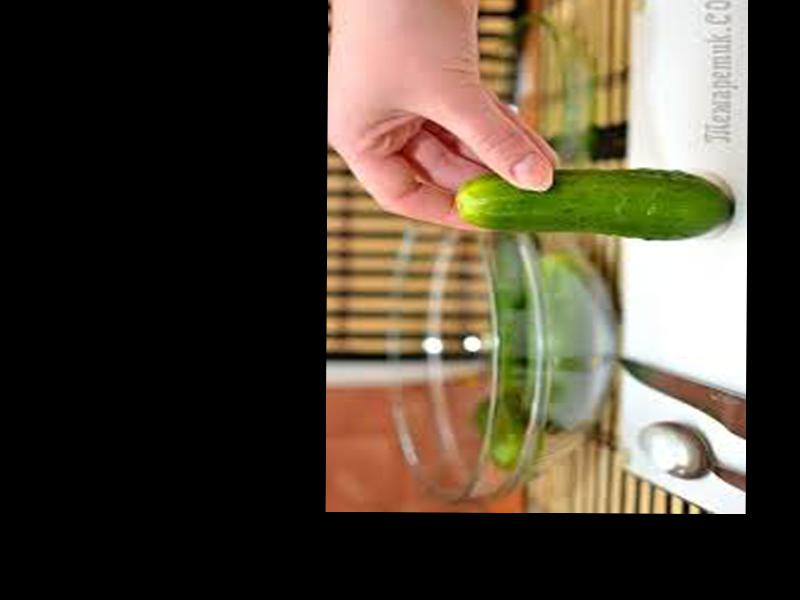Cucumber: (455, 168, 731, 240)
